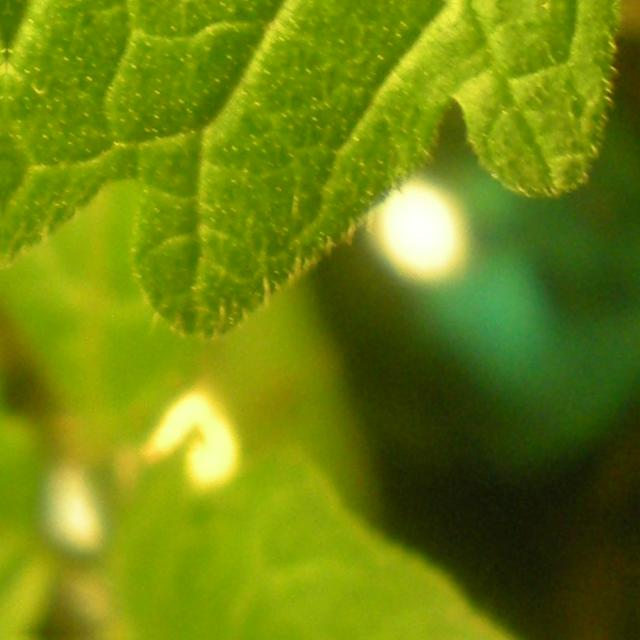Tomato leaf: (0, 0, 640, 346), (32, 377, 561, 640), (0, 130, 75, 634), (613, 75, 640, 640)
